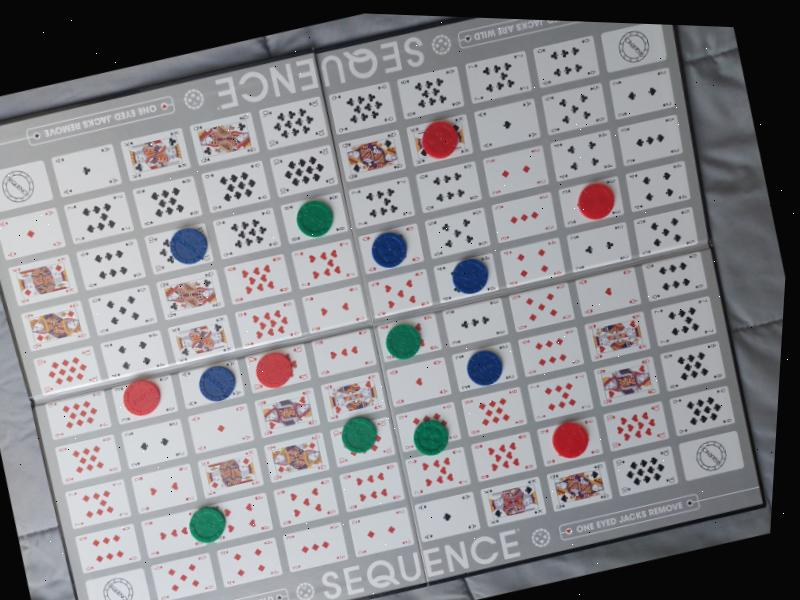Blue_Token: (143, 195, 236, 282), (445, 332, 528, 413), (178, 346, 250, 422), (432, 243, 503, 316), (353, 211, 425, 276)
Green_Token: (257, 172, 355, 260), (355, 302, 455, 382), (157, 484, 249, 563), (322, 397, 398, 466), (399, 407, 454, 468)
Red_Token: (93, 354, 190, 437), (402, 107, 488, 181), (546, 165, 629, 237), (530, 406, 611, 475), (242, 339, 311, 412)
